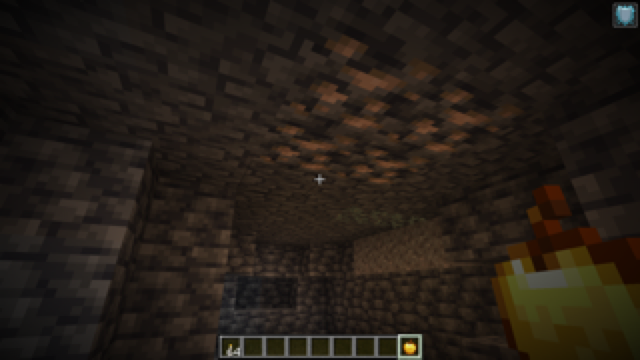iron: (254, 34, 527, 192)
